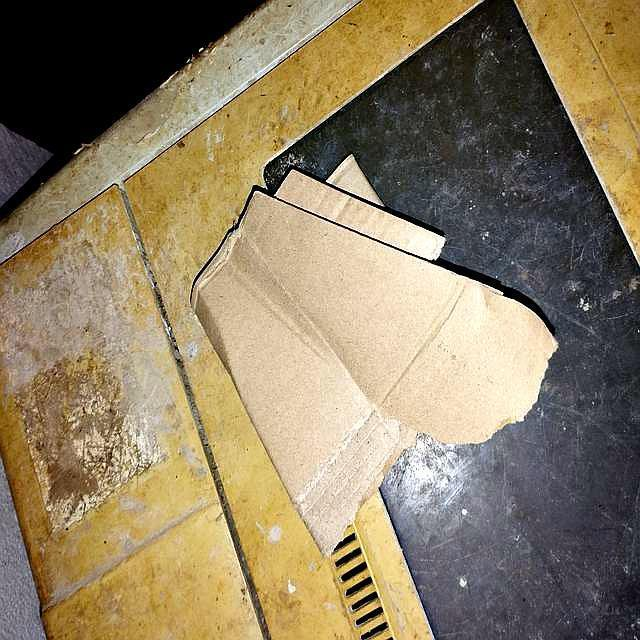Biodegradable: (178, 104, 598, 564)
